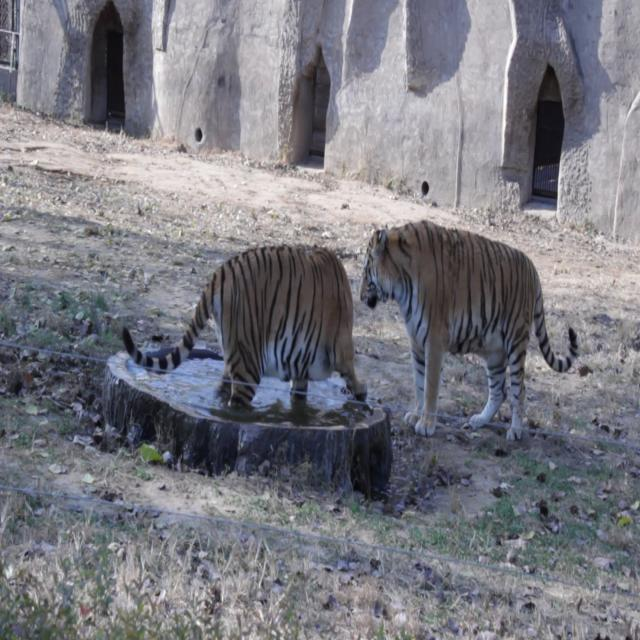Tiger: (356, 213, 582, 447), (125, 238, 371, 417)
